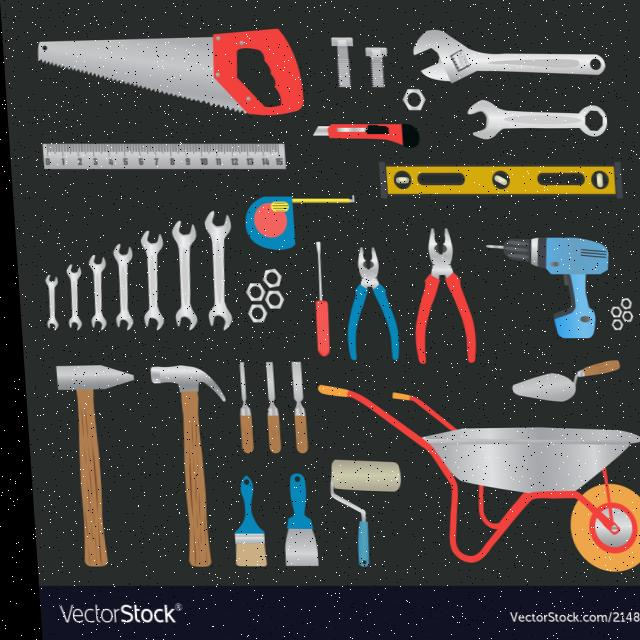Screwdriver: (466, 101, 605, 139), (311, 242, 325, 356)
